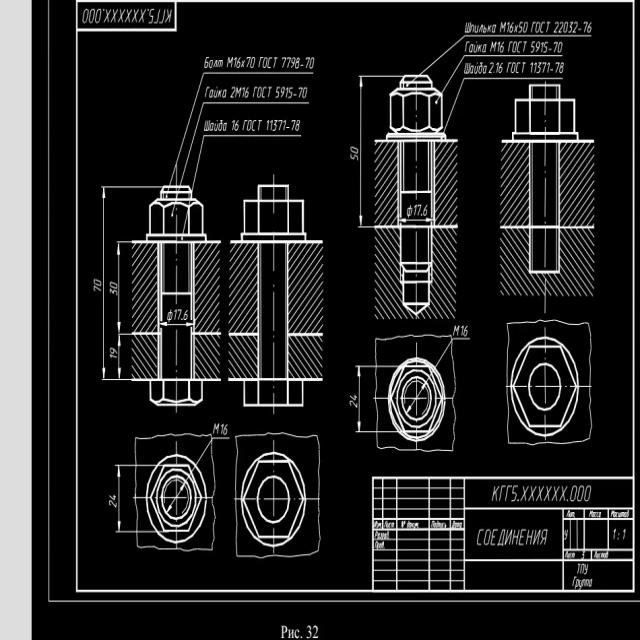marking_line: (357, 77, 368, 228), (98, 190, 106, 379), (114, 243, 123, 330), (166, 485, 187, 514), (115, 467, 123, 532), (357, 368, 364, 431), (160, 317, 192, 328), (116, 336, 120, 378)
numeric: (211, 417, 230, 437), (554, 20, 579, 35), (265, 119, 287, 134), (452, 321, 471, 338), (281, 55, 301, 71), (529, 40, 550, 55), (530, 61, 552, 75), (276, 86, 293, 102), (172, 308, 189, 322), (90, 278, 103, 295), (348, 389, 359, 409), (349, 142, 359, 164), (489, 61, 503, 76), (413, 204, 428, 217), (108, 491, 117, 512), (298, 83, 309, 100), (552, 41, 564, 56), (108, 279, 118, 295), (555, 60, 565, 76), (305, 54, 314, 71), (108, 347, 119, 360), (584, 21, 593, 36), (291, 118, 300, 131)
